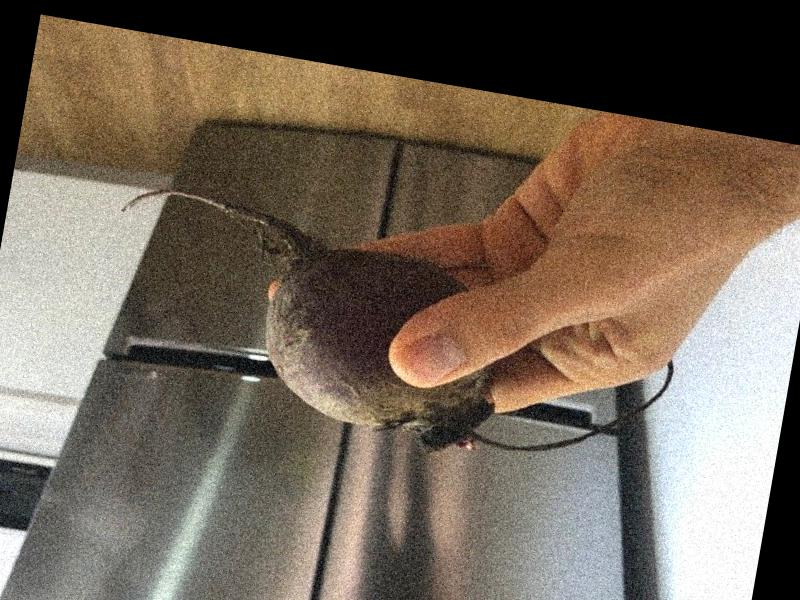Beet: (86, 179, 688, 486)
